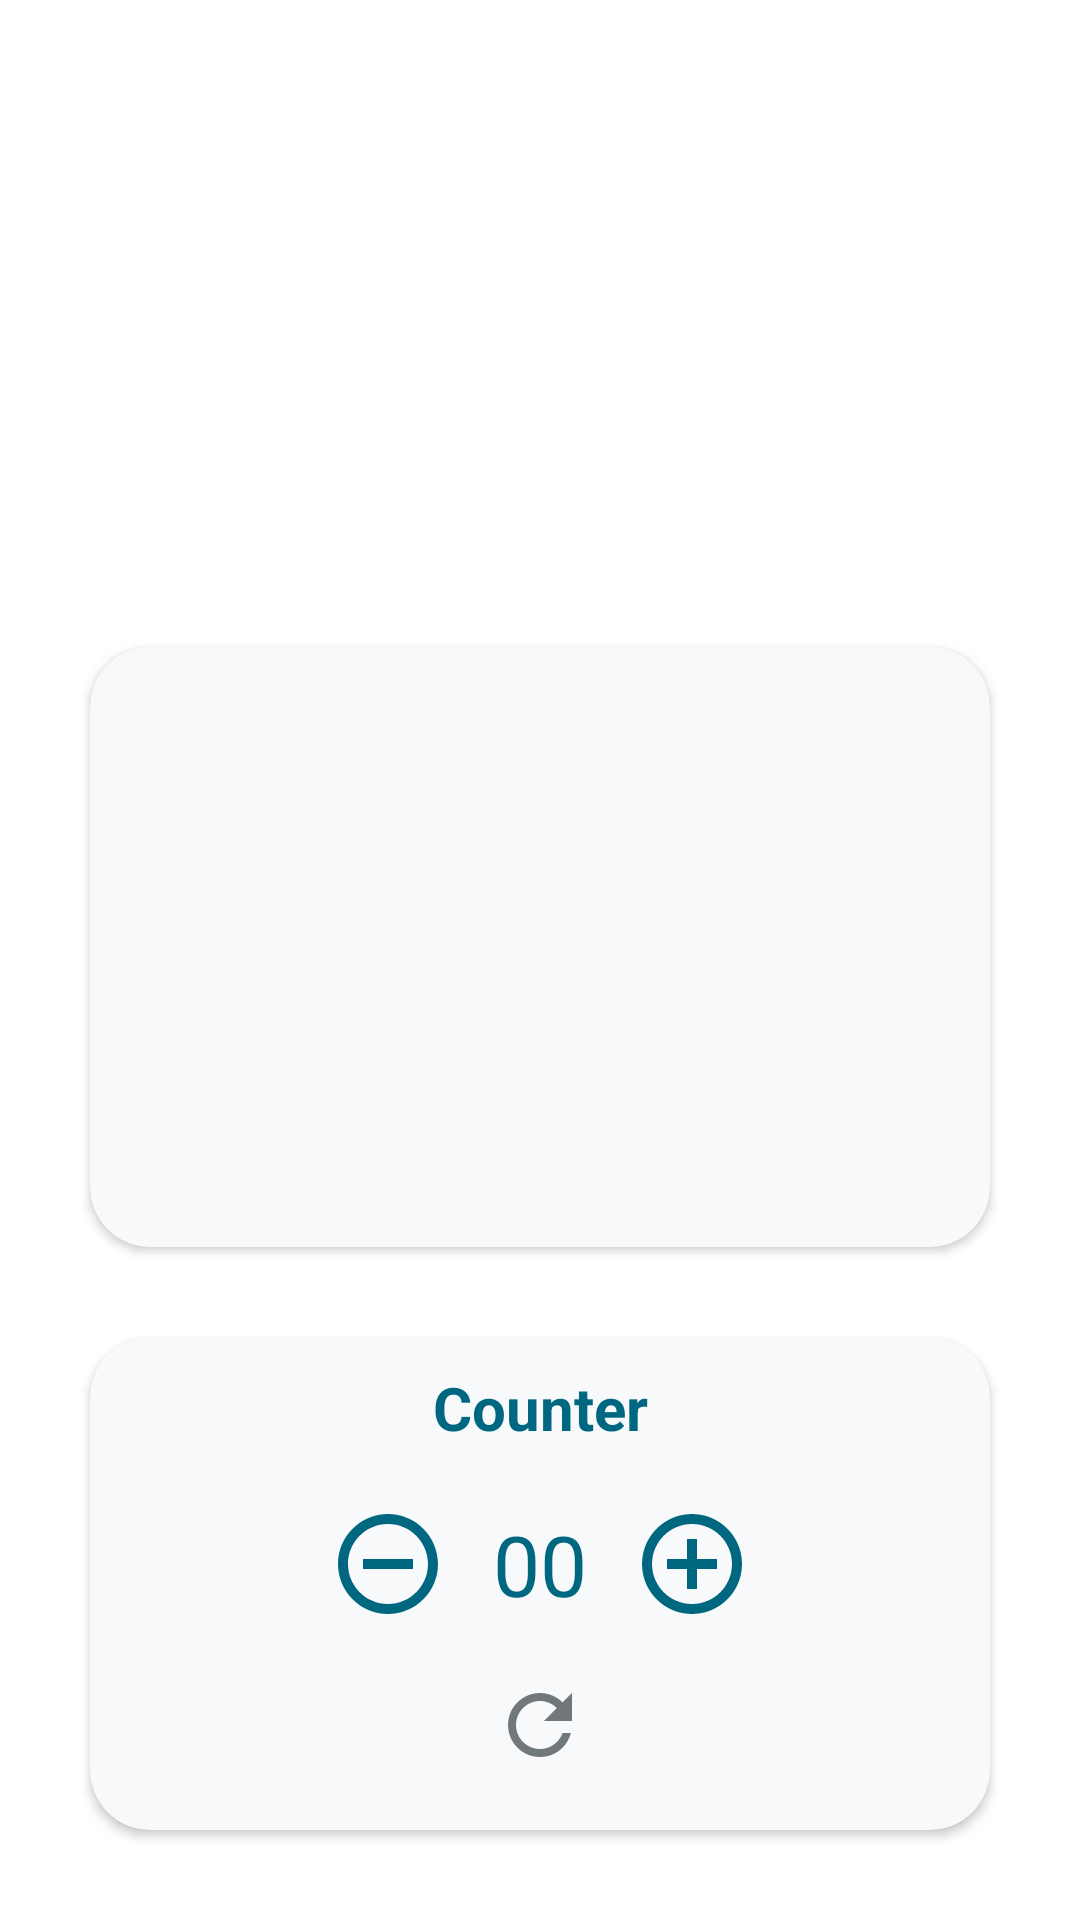

Where icons sit on this 1080×1920 app screen, as (x1, y1, x2, y2):
reset: (508, 1693, 572, 1757)
